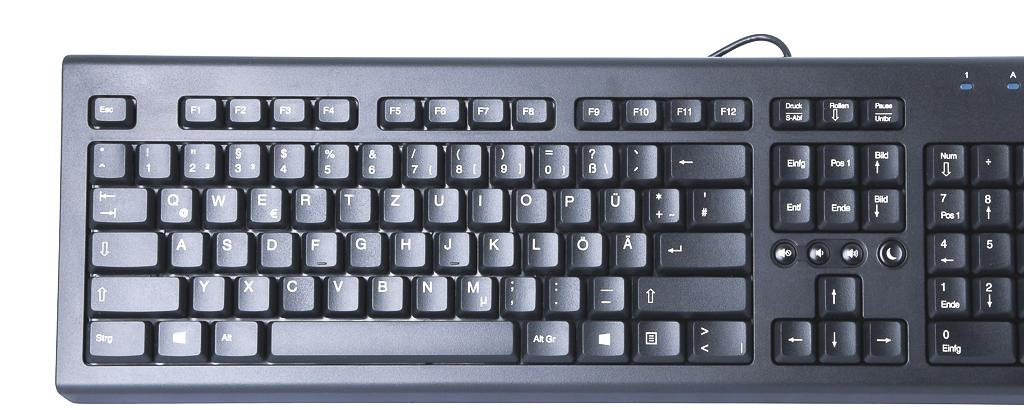0: (533, 140, 569, 179)
1: (135, 140, 170, 176)
2: (179, 140, 215, 177)
3: (224, 140, 260, 177)
4: (269, 140, 304, 177)
5: (312, 140, 349, 177)
6: (357, 140, 393, 178)
7: (401, 140, 437, 178)
8: (445, 140, 481, 179)
9: (488, 139, 525, 179)
a: (167, 228, 202, 265)
accent: (621, 140, 656, 178)
ae: (612, 229, 646, 266)
alt-left: (210, 317, 258, 355)
altgr-right: (521, 317, 569, 354)
b: (366, 272, 403, 309)
c: (278, 273, 315, 310)
caret: (88, 139, 124, 176)
comma: (499, 273, 535, 310)
d: (256, 228, 292, 266)
del: (666, 140, 746, 178)
e: (246, 184, 281, 221)
enter: (655, 229, 747, 267)
f: (301, 228, 336, 265)
g: (345, 229, 381, 265)
h: (390, 228, 424, 265)
hash: (690, 186, 746, 223)
i: (467, 185, 502, 221)
j: (433, 228, 469, 265)
k: (478, 228, 514, 265)
keyboard: (51, 49, 1024, 407)
l: (523, 229, 558, 265)
less: (686, 317, 750, 359)
m: (455, 272, 492, 310)
minus: (589, 273, 624, 309)
n: (411, 272, 447, 310)
o: (510, 185, 546, 222)
oe: (566, 229, 602, 266)
p: (555, 184, 590, 221)
plus: (643, 184, 679, 222)
point: (545, 273, 580, 310)
q: (156, 183, 193, 222)
r: (290, 184, 326, 221)
s: (211, 228, 248, 265)
shift-left: (87, 272, 180, 311)
shift-lock: (88, 228, 158, 265)
shift-right: (635, 273, 747, 310)
space: (267, 317, 515, 355)
ss: (577, 140, 612, 179)
strg-left: (84, 317, 145, 356)
t: (335, 184, 370, 221)
tab: (88, 183, 146, 221)
u: (423, 184, 458, 222)
ue: (599, 184, 635, 222)
v: (323, 272, 358, 309)
w: (202, 184, 237, 221)
x: (234, 273, 269, 310)
y: (190, 272, 224, 310)
z: (380, 184, 414, 221)
